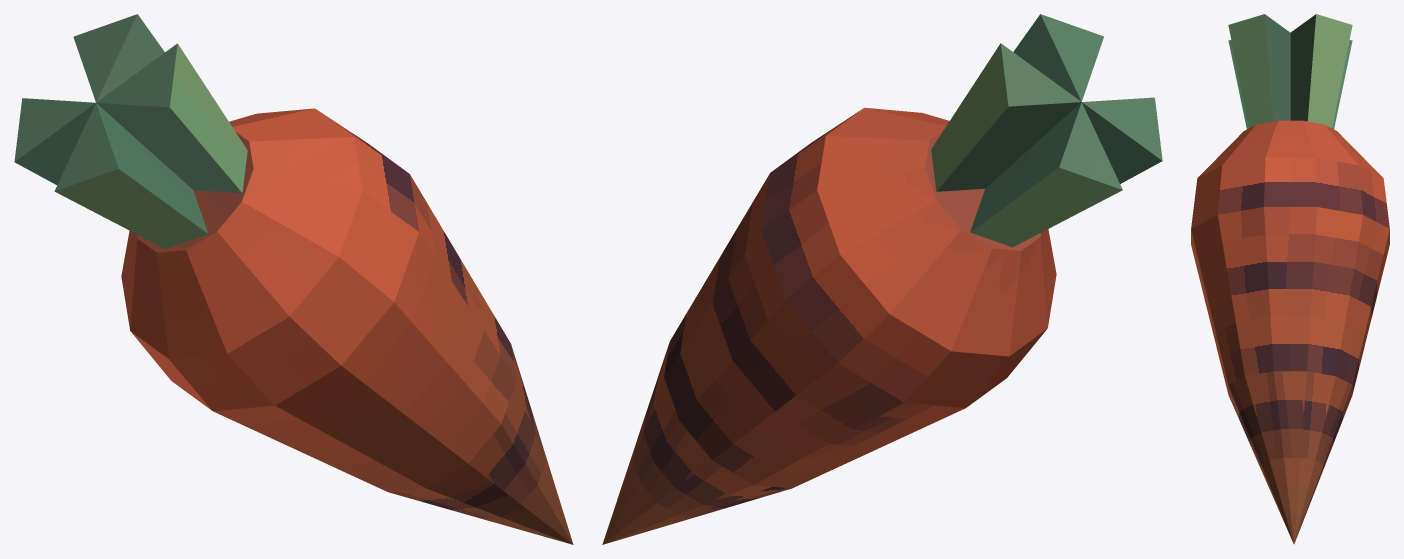
Rendered from roasted_carrot2.glb.
The picture shows the model from 3 angles, left to right: view 1: azimuth 30°, elevation 25°; view 2: azimuth 150°, elevation 25°; view 3: azimuth 270°, elevation 25°; orthographic projection. The views are drawn at different scales.
Visible parts, largest first — view 1: cylinder; view 2: cylinder; view 3: cylinder.
Part boxes in pixels (x1=…): cylinder: x1=14, y1=14, x2=573, y2=544; cylinder: x1=602, y1=14, x2=1162, y2=544; cylinder: x1=1191, y1=14, x2=1389, y2=544.
Size of the model in its own units: 0.6585 by 0.7206 by 0.325.
1 material, 1 textured.
